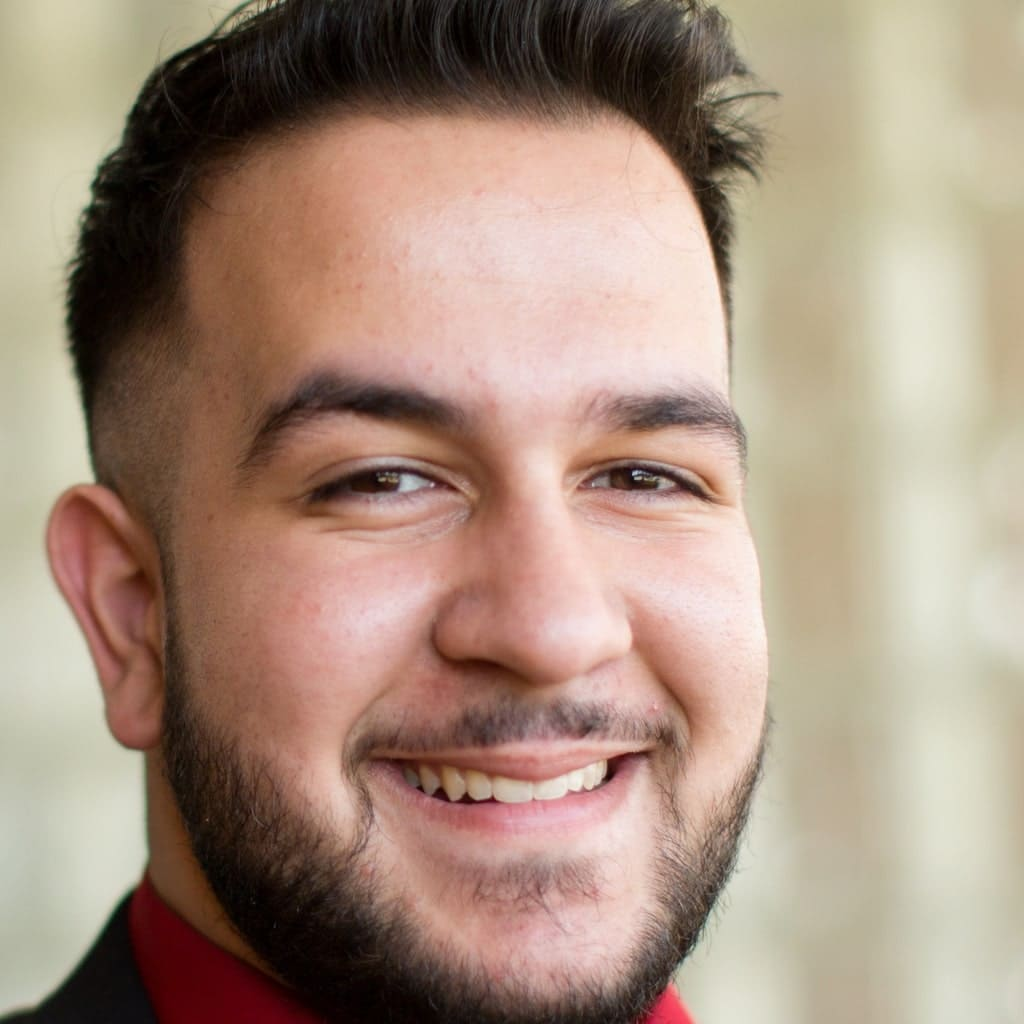without_mask: (257, 316, 770, 982)
